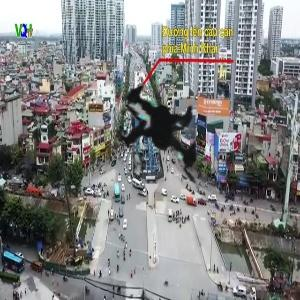drone: (2, 19, 283, 300)
